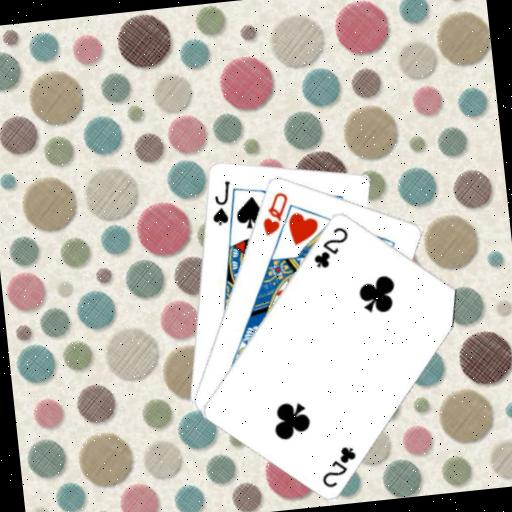2C: (316, 441, 361, 490), (308, 223, 353, 271)
JS: (205, 177, 235, 228)
QH: (256, 188, 293, 238)
